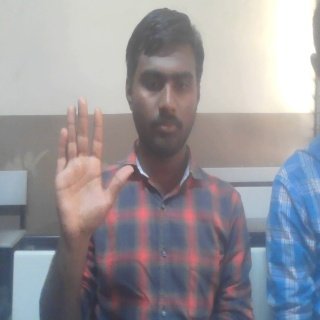Face: (123, 4, 205, 165)
Hello: (53, 97, 135, 240)
